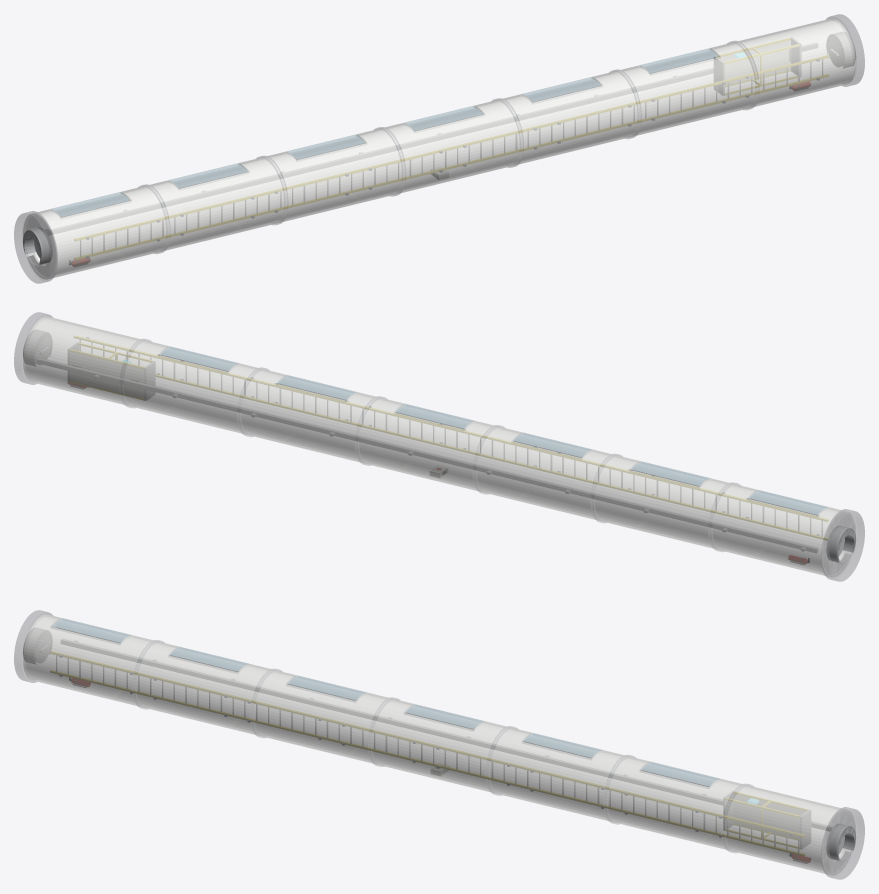
The model's file is station10_spoke_combined.glb.
3 renders of one model, top to bottom at view 1: azimuth 30°, elevation 25°; view 2: azimuth 150°, elevation 25°; view 3: azimuth 330°, elevation 25°, orthographic.
Visible parts, largest first — view 1: pressure_vessel, ext_tube_shell, window_glass_inner, elevator_rail, ext_end_collars, ext_ring_frames, eq42_1_back_panel, hatch_tunnel_1, eq42_1_corner_posts, hatch_tunnel_2; view 2: pressure_vessel, ext_tube_shell, window_glass_inner, elevator_rail, ext_end_collars, ext_ring_frames, eq42_1_back_panel, hatch_tunnel_1, hatch_tunnel_2; view 3: pressure_vessel, ext_tube_shell, window_glass_inner, elevator_rail, ext_end_collars, ext_ring_frames, eq42_1_back_panel, hatch_tunnel_2, eq42_1_corner_posts, hatch_tunnel_1.
Part boxes in pixels (x1,y1,x2,y2): pressure_vessel: [23, 19, 855, 278]; ext_tube_shell: [23, 18, 855, 278]; window_glass_inner: [51, 48, 719, 216]; elevator_rail: [45, 43, 817, 235]; ext_end_collars: [14, 14, 864, 283]; ext_ring_frames: [138, 41, 759, 253]; eq42_1_back_panel: [719, 40, 790, 85]; hatch_tunnel_1: [23, 228, 52, 264]; eq42_1_corner_posts: [716, 38, 799, 95]; hatch_tunnel_2: [826, 32, 855, 67]; pressure_vessel: [23, 317, 855, 576]; ext_tube_shell: [23, 316, 855, 576]; window_glass_inner: [159, 346, 827, 514]; elevator_rail: [37, 358, 817, 552]; ext_end_collars: [14, 312, 864, 581]; ext_ring_frames: [119, 339, 740, 551]; eq42_1_back_panel: [70, 352, 143, 398]; hatch_tunnel_1: [826, 526, 855, 562]; hatch_tunnel_2: [23, 330, 52, 365]; pressure_vessel: [23, 615, 855, 874]; ext_tube_shell: [23, 614, 855, 873]; window_glass_inner: [51, 618, 719, 786]; elevator_rail: [61, 639, 832, 831]; ext_end_collars: [14, 610, 864, 879]; ext_ring_frames: [132, 640, 753, 852]; eq42_1_back_panel: [734, 794, 805, 838]; hatch_tunnel_2: [826, 824, 855, 860]; eq42_1_corner_posts: [725, 791, 807, 848]; hatch_tunnel_1: [23, 628, 52, 663].
Bounding box in the file's own units: 20.75 × 1.6 × 1.6.
